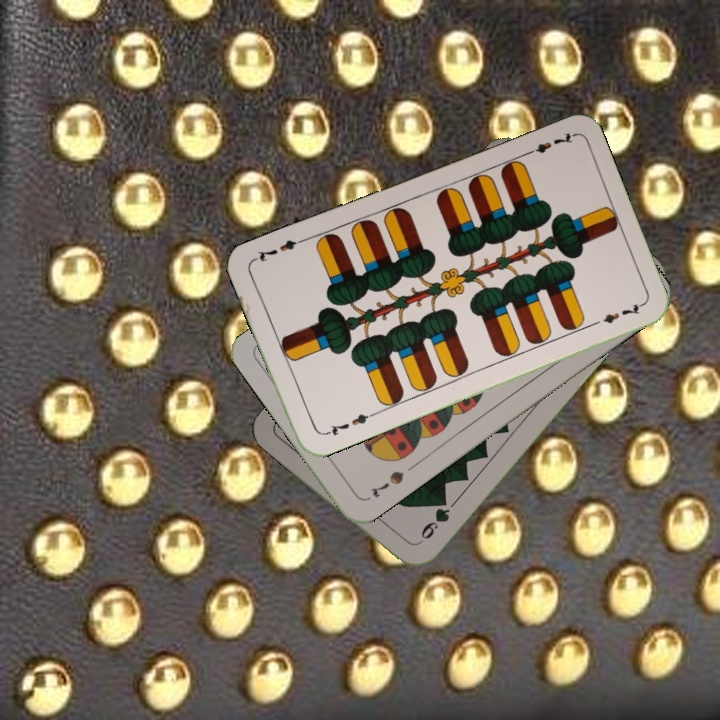E7: (519, 128, 576, 159), (319, 409, 376, 439)
G9: (413, 494, 453, 547)
S7: (366, 466, 407, 501)
